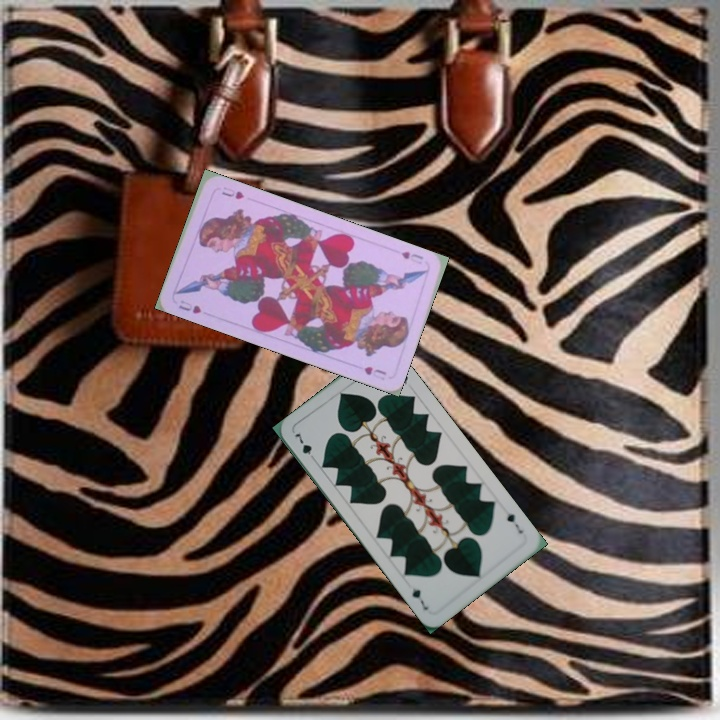G7: (290, 429, 318, 464), (503, 509, 527, 536)
HU: (175, 296, 204, 316), (397, 247, 426, 262)
